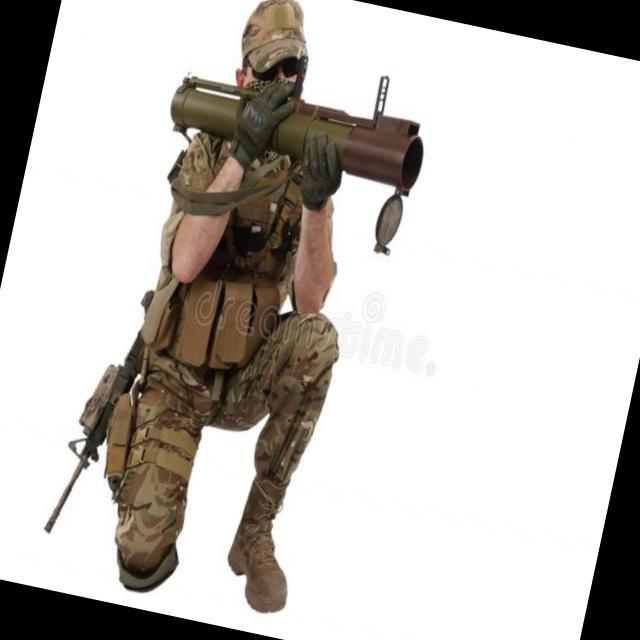rocket: (146, 34, 438, 256)
